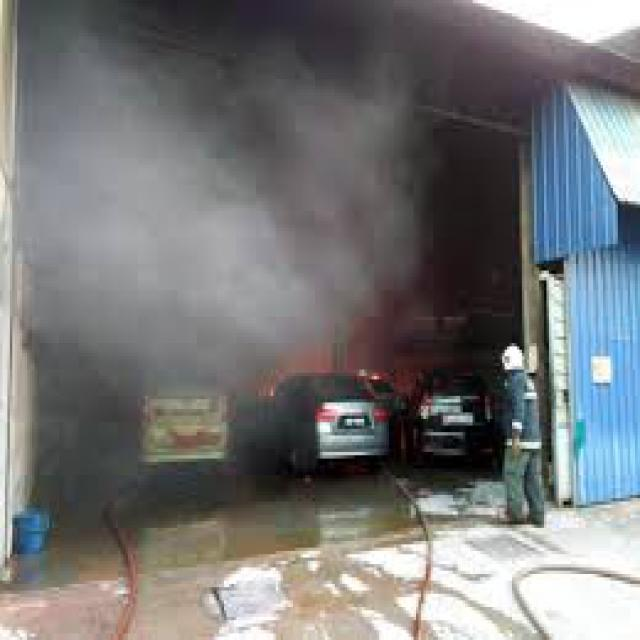smoke: (20, 46, 315, 370)
